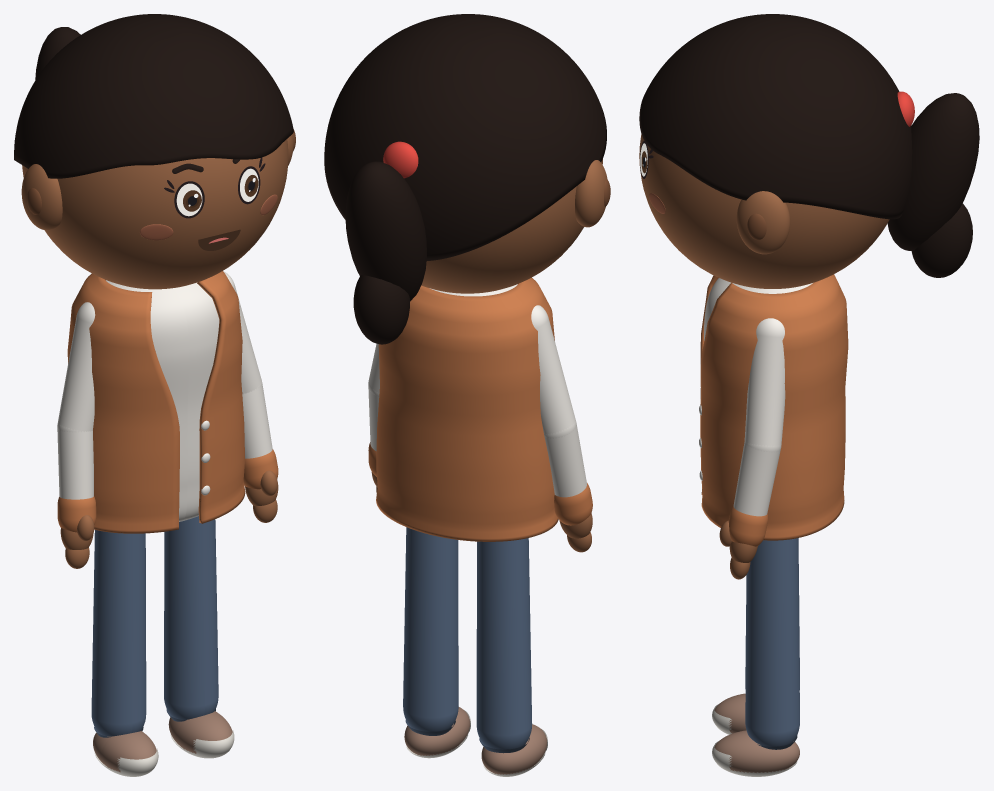
File: moeder_meisje.glb
3 renders of one model, left to right at view 1: azimuth 30°, elevation 25°; view 2: azimuth 150°, elevation 25°; view 3: azimuth 270°, elevation 25°, orthographic.
Parts seen in each view (by area): view 1: moeder_meisje_haar, moeder_meisje_vest, moeder_meisje_hoofd, moeder_meisje_been_R, moeder_meisje_been_L, moeder_meisje_romp, moeder_meisje_bovenarm_R, moeder_meisje_onderarm_R, moeder_meisje_oor_R, moeder_meisje_onderarm_L, moeder_meisje_schoen_R, moeder_meisje_schoen_L (+7 smaller); view 2: moeder_meisje_haar, moeder_meisje_vest, moeder_meisje_been_R, moeder_meisje_been_L, moeder_meisje_staart, moeder_meisje_hoofd, moeder_meisje_staart_punt, moeder_meisje_bovenarm_R, moeder_meisje_onderarm_R, moeder_meisje_schoen_R, moeder_meisje_oor_R, moeder_meisje_schoen_L (+2 smaller); view 3: moeder_meisje_haar, moeder_meisje_vest, moeder_meisje_hoofd, moeder_meisje_been_L, moeder_meisje_staart, moeder_meisje_bovenarm_L, moeder_meisje_staart_punt, moeder_meisje_onderarm_L, moeder_meisje_oor_L, moeder_meisje_schoen_L, moeder_meisje_manchet_L, moeder_meisje_romp (+1 smaller).
Part boxes in pixels (<box>): moeder_meisje_haar: <box>14,14,293,178</box>; moeder_meisje_vest: <box>67,271,245,533</box>; moeder_meisje_hoofd: <box>22,139,288,289</box>; moeder_meisje_been_R: <box>91,530,146,736</box>; moeder_meisje_been_L: <box>164,516,218,720</box>; moeder_meisje_romp: <box>106,280,219,521</box>; moeder_meisje_bovenarm_R: <box>58,302,95,431</box>; moeder_meisje_onderarm_R: <box>57,426,93,499</box>; moeder_meisje_oor_R: <box>21,164,62,230</box>; moeder_meisje_onderarm_L: <box>242,383,272,458</box>; moeder_meisje_schoen_R: <box>93,731,156,772</box>; moeder_meisje_schoen_L: <box>168,711,232,753</box>; moeder_meisje_haar: <box>324,14,606,260</box>; moeder_meisje_vest: <box>376,277,558,541</box>; moeder_meisje_been_R: <box>476,538,532,749</box>; moeder_meisje_been_L: <box>403,527,458,731</box>; moeder_meisje_staart: <box>345,161,426,301</box>; moeder_meisje_hoofd: <box>421,159,602,293</box>; moeder_meisje_staart_punt: <box>353,275,409,344</box>; moeder_meisje_bovenarm_R: <box>531,305,575,437</box>; moeder_meisje_onderarm_R: <box>544,424,586,497</box>; moeder_meisje_schoen_R: <box>481,724,546,774</box>; moeder_meisje_oor_R: <box>575,160,607,227</box>; moeder_meisje_schoen_L: <box>404,707,469,755</box>; moeder_meisje_haar: <box>639,14,912,219</box>; moeder_meisje_vest: <box>700,274,848,540</box>; moeder_meisje_hoofd: <box>639,134,889,288</box>; moeder_meisje_been_L: <box>745,538,799,746</box>; moeder_meisje_staart: <box>887,93,979,250</box>; moeder_meisje_bovenarm_L: <box>744,318,785,451</box>; moeder_meisje_staart_punt: <box>911,203,972,277</box>; moeder_meisje_onderarm_L: <box>733,442,780,516</box>; moeder_meisje_oor_L: <box>736,191,790,254</box>; moeder_meisje_schoen_L: <box>714,730,799,772</box>; moeder_meisje_manchet_L: <box>728,506,767,546</box>; moeder_meisje_romp: <box>704,278,812,340</box>.
Bounding box in the file's own units: 0.668 × 1.75 × 0.7425.
